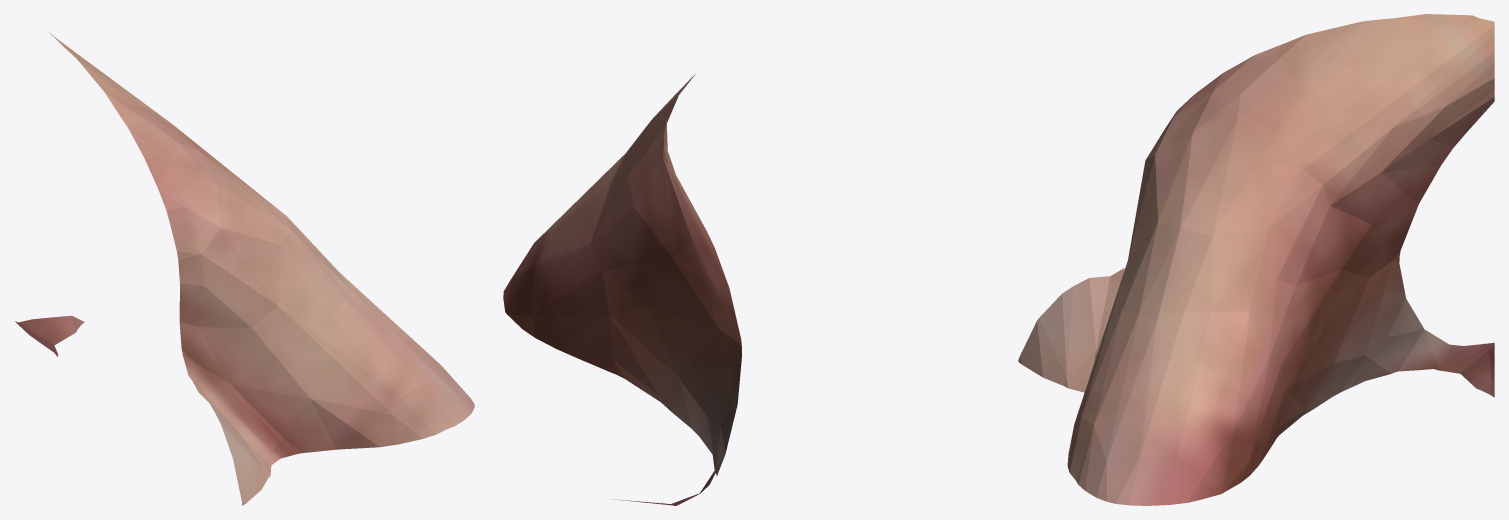
3 renders of one model, left to right at view 1: azimuth 30°, elevation 25°; view 2: azimuth 150°, elevation 25°; view 3: azimuth 270°, elevation 25°, orthographic. The views are drawn at different scales.
Size of the model in its own units: 24.89 by 27.98 by 34.72.
1 material, 1 textured.
